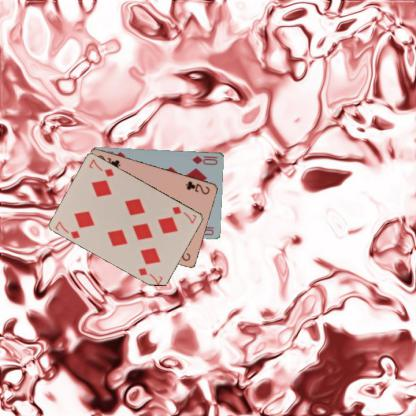10d: (189, 153, 219, 166)
2c: (183, 178, 211, 196)
7d: (52, 218, 82, 240), (170, 203, 198, 225)
